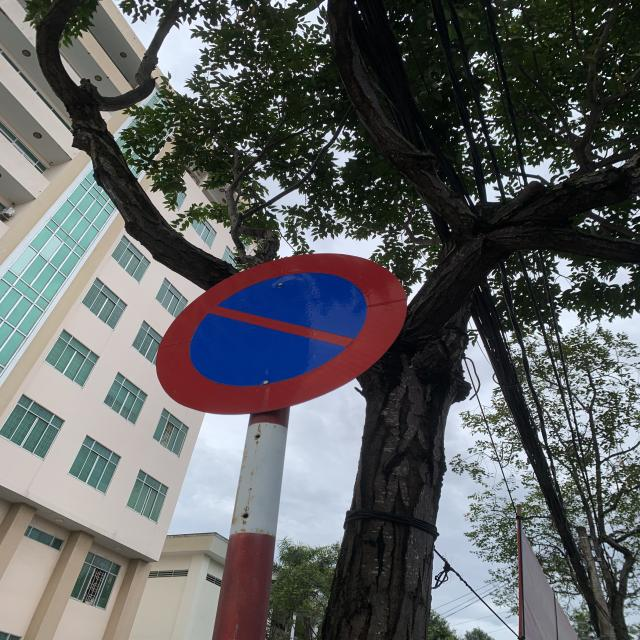Cam_Dau_Xe: (159, 250, 409, 418)
